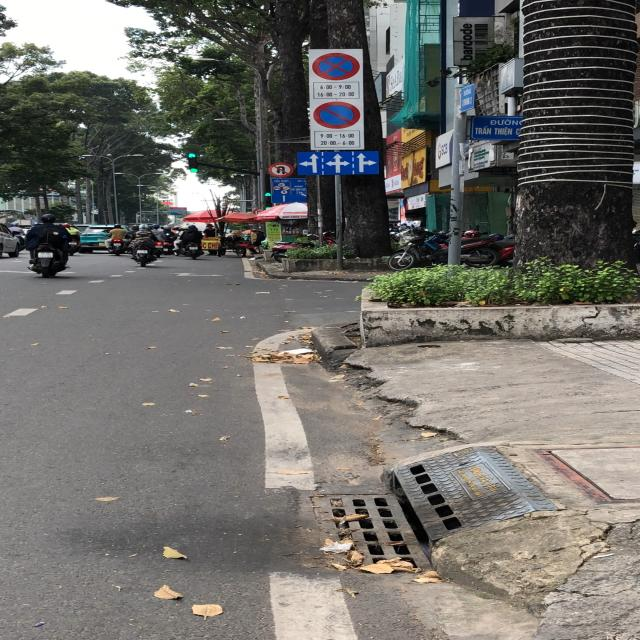Bien bao cam do xe: (313, 100, 362, 130)
Bien bao cam dung xe va do xe: (312, 51, 365, 83)
Bien bao cam quay dau xe: (268, 160, 293, 178)
